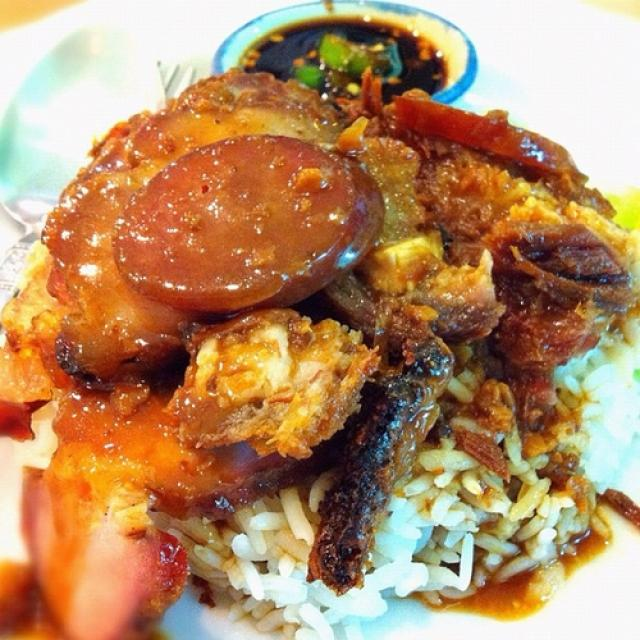猪肉菜式: (5, 15, 635, 621)
